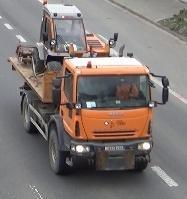Truck: (16, 2, 170, 176)
